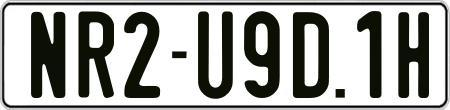1: (357, 10, 385, 98)
2: (123, 11, 164, 97)
9: (241, 8, 280, 100)
D: (290, 12, 332, 98)
H: (396, 11, 428, 98)
N: (30, 9, 68, 96)
R: (79, 10, 116, 102)
U: (198, 10, 236, 99)
